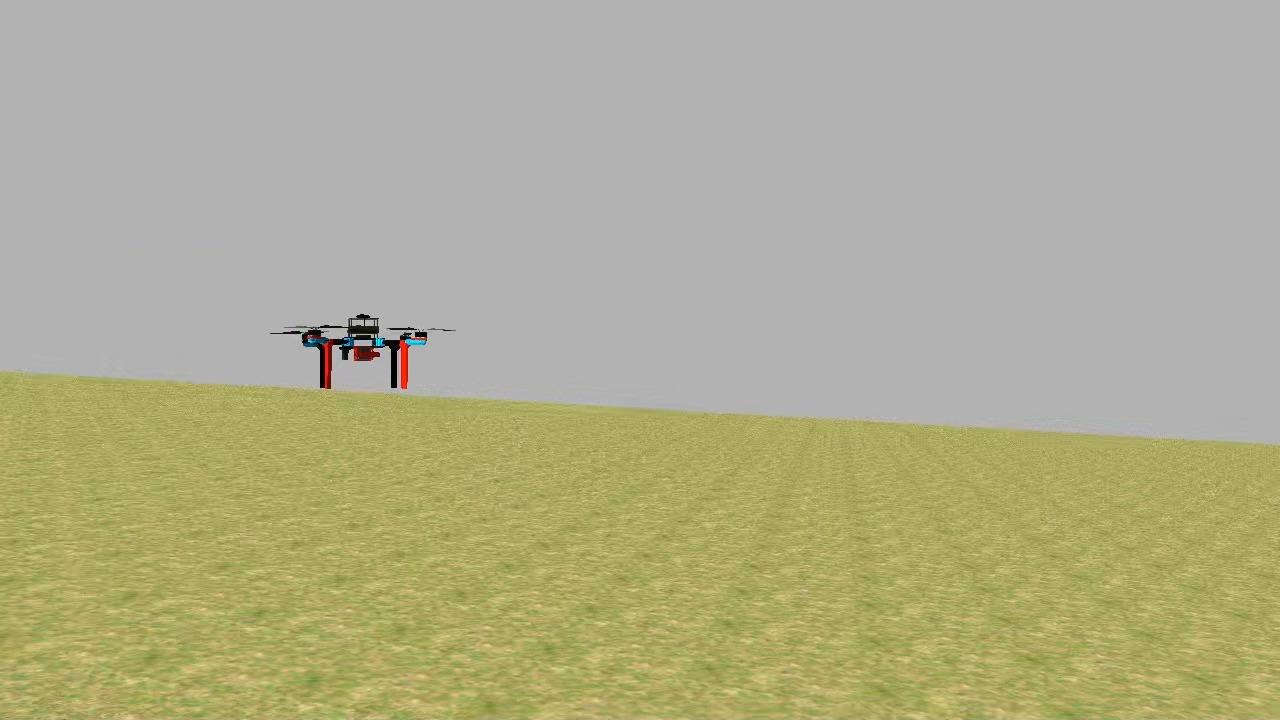UAV: (292, 306, 434, 397)
